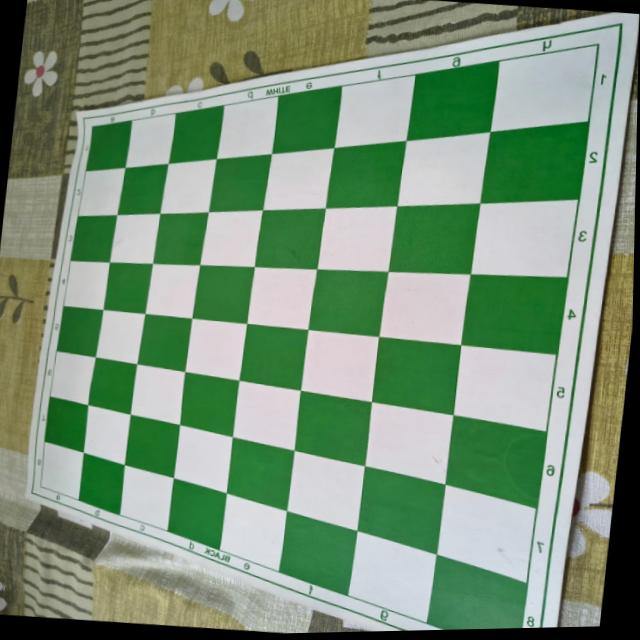square: (436, 483, 537, 583), (490, 42, 598, 133), (446, 414, 547, 507), (452, 344, 556, 431), (480, 119, 587, 202), (461, 273, 567, 354), (471, 198, 578, 276), (347, 530, 436, 622), (357, 465, 445, 554), (425, 554, 527, 630), (407, 60, 500, 140), (365, 401, 454, 484), (370, 336, 462, 415), (396, 130, 491, 205), (278, 510, 358, 595), (378, 270, 471, 343), (389, 202, 481, 273), (286, 450, 364, 530), (333, 72, 416, 147), (295, 389, 372, 465), (302, 328, 379, 401), (325, 139, 405, 208), (219, 493, 287, 570), (308, 269, 387, 335), (227, 435, 295, 510), (318, 205, 397, 269), (272, 85, 341, 153), (233, 380, 300, 450), (262, 147, 335, 210), (240, 322, 308, 389), (247, 265, 317, 328), (254, 207, 326, 268), (166, 477, 226, 548), (174, 423, 233, 492), (184, 317, 247, 380), (216, 94, 277, 158), (180, 371, 239, 436), (208, 153, 271, 211), (192, 264, 254, 322), (200, 209, 263, 266), (120, 464, 174, 529), (124, 414, 179, 476), (130, 363, 185, 424), (168, 104, 224, 163), (137, 312, 192, 370), (160, 158, 216, 213), (152, 211, 209, 264), (145, 263, 200, 317), (78, 452, 125, 514), (83, 404, 131, 464), (125, 112, 175, 167), (89, 356, 137, 413), (96, 309, 145, 363), (109, 212, 160, 263), (44, 394, 88, 452), (103, 261, 153, 312), (117, 163, 168, 213), (40, 440, 83, 499), (50, 350, 96, 403), (56, 305, 103, 355), (78, 166, 125, 215), (63, 260, 110, 309), (86, 119, 131, 170), (71, 214, 117, 261)
